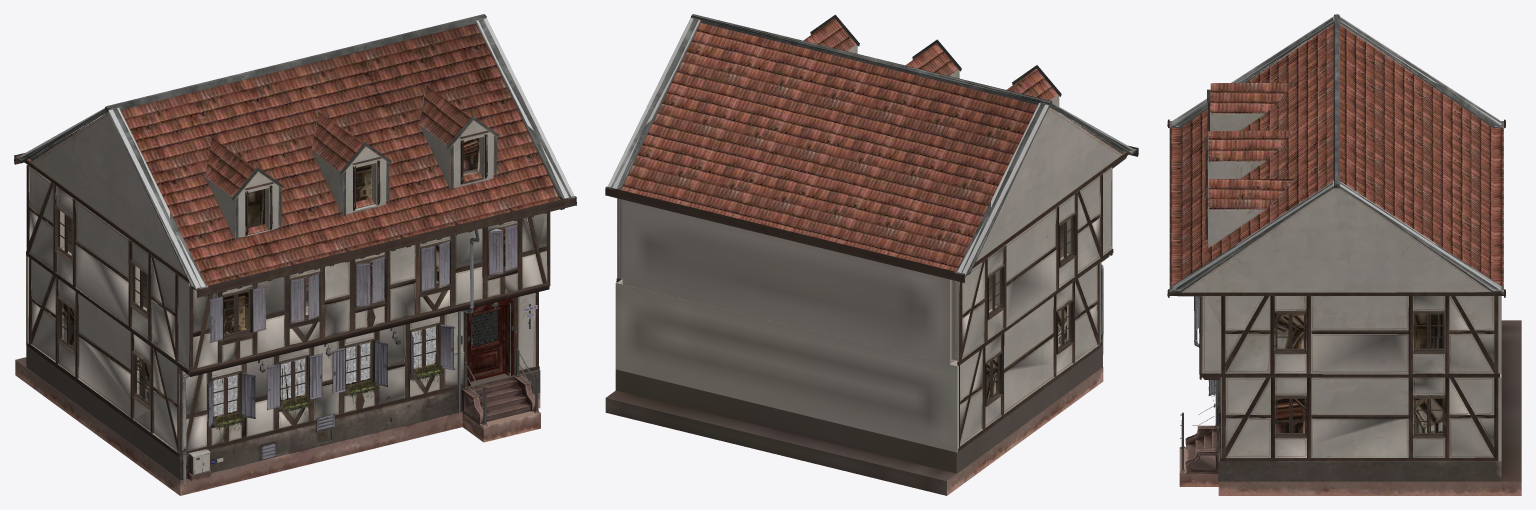
File: casa_entramado_a.glb
The picture shows the model from 3 angles, left to right: view 1: azimuth 30°, elevation 25°; view 2: azimuth 150°, elevation 25°; view 3: azimuth 270°, elevation 25°; orthographic projection. The views are drawn at different scales.
Parts seen in each view (by area): view 1: XI_GV_House_Long4.Shape_XI_GV_HL_Roofs_MAT_0, XI_GV_House_Long4.Shape_XI_GV_HL_Base_MAT_0, XI_GV_House_Long4.Shape_XI_GV_HL_Planks_MAT_0, XI_GV_House_Long4.Shape_XI_GV_HL_Details_MAT_0, XI_GV_House_Long4.Shape_XI_GV_HL_Opacity_MAT_0, XI_GV_House_Long4.Shape_XI_GV_HL_Details_MAT_0.001, XI_GV_House_Long4.Shape_XI_GV_F_Window_flowers02_L_MAT_0.001, XI_GV_House_Long4.Shape_XI_GV_F_Window_flowers02_L_MAT_0; view 2: XI_GV_House_Long4.Shape_XI_GV_HL_Base_MAT_0, XI_GV_House_Long4.Shape_XI_GV_HL_Roofs_MAT_0, XI_GV_House_Long4.Shape_XI_GV_HL_Planks_MAT_0; view 3: XI_GV_House_Long4.Shape_XI_GV_HL_Roofs_MAT_0, XI_GV_House_Long4.Shape_XI_GV_HL_Base_MAT_0, XI_GV_House_Long4.Shape_XI_GV_HL_Planks_MAT_0, XI_GV_House_Long4.Shape_XI_GV_HL_Details_MAT_0.
Boxes of the visible parts, bbox=[...] form: XI_GV_House_Long4.Shape_XI_GV_HL_Roofs_MAT_0: bbox=[14, 14, 576, 297]; XI_GV_House_Long4.Shape_XI_GV_HL_Base_MAT_0: bbox=[15, 165, 547, 495]; XI_GV_House_Long4.Shape_XI_GV_HL_Planks_MAT_0: bbox=[24, 160, 550, 457]; XI_GV_House_Long4.Shape_XI_GV_HL_Details_MAT_0: bbox=[180, 229, 549, 484]; XI_GV_House_Long4.Shape_XI_GV_HL_Opacity_MAT_0: bbox=[305, 237, 498, 347]; XI_GV_House_Long4.Shape_XI_GV_HL_Details_MAT_0.001: bbox=[203, 305, 505, 465]; XI_GV_House_Long4.Shape_XI_GV_F_Window_flowers02_L_MAT_0.001: bbox=[213, 382, 378, 436]; XI_GV_House_Long4.Shape_XI_GV_F_Window_flowers02_L_MAT_0: bbox=[216, 364, 444, 430]; XI_GV_House_Long4.Shape_XI_GV_HL_Base_MAT_0: bbox=[605, 167, 1112, 495]; XI_GV_House_Long4.Shape_XI_GV_HL_Roofs_MAT_0: bbox=[605, 14, 1138, 283]; XI_GV_House_Long4.Shape_XI_GV_HL_Planks_MAT_0: bbox=[609, 152, 1129, 451]; XI_GV_House_Long4.Shape_XI_GV_HL_Roofs_MAT_0: bbox=[1167, 14, 1505, 297]; XI_GV_House_Long4.Shape_XI_GV_HL_Base_MAT_0: bbox=[1179, 296, 1521, 495]; XI_GV_House_Long4.Shape_XI_GV_HL_Planks_MAT_0: bbox=[1169, 292, 1503, 461]; XI_GV_House_Long4.Shape_XI_GV_HL_Details_MAT_0: bbox=[1180, 296, 1220, 473].
Bounding box in the file's own units: 10.95 × 9.5 × 9.63.
7 materials, 7 textured.
